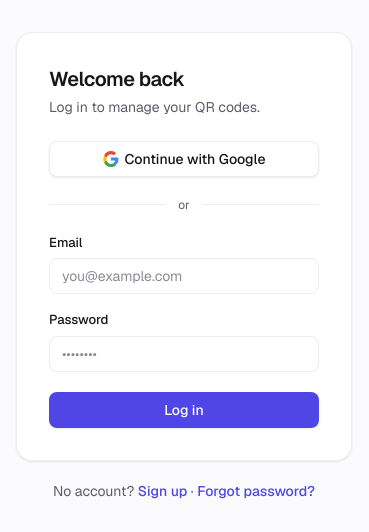
it: AuthForm (login) › shows the error message on failure
The width and height of the screenshot is (369, 532).
Type "a@b.com" into the field labelled "Email" at [184, 276], box [49,258,319,294]
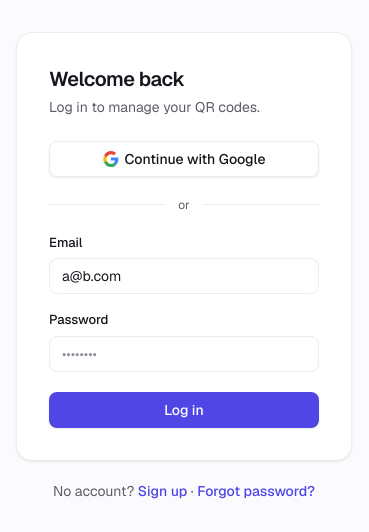
Type "secret123" into the password field labelled "Password" at [184, 354], box [49,336,319,372]
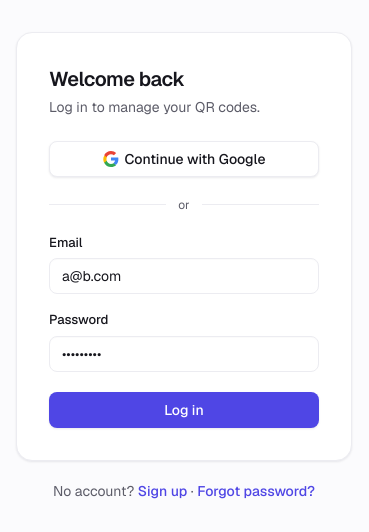
Click the button "Log in" at [184, 410], box [49,392,319,428]
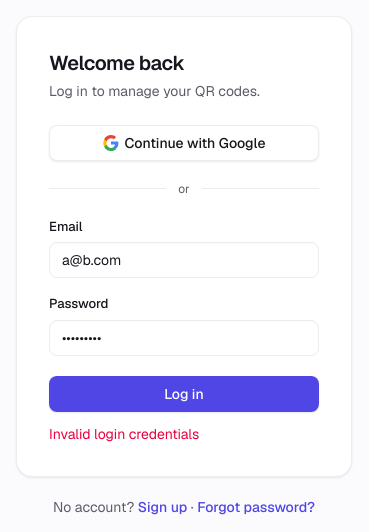
Check: the text "Invalid login credentials" is shown, box [49,424,199,442]
